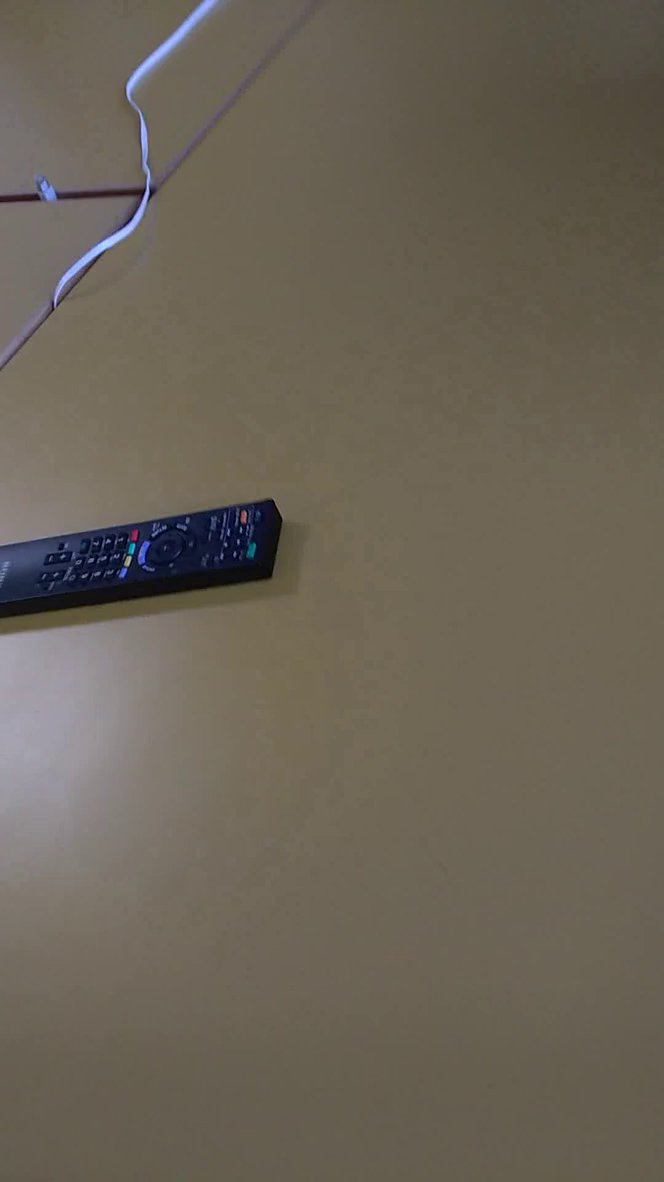remote: (2, 491, 294, 669)
